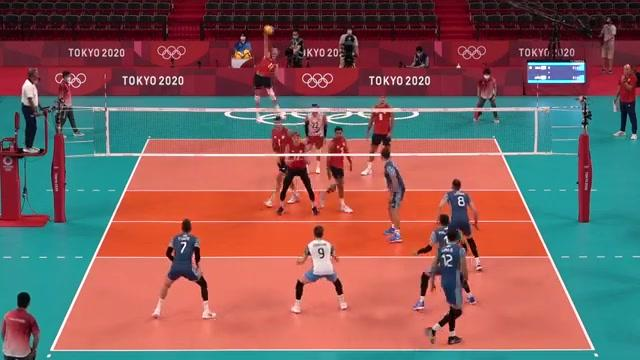ball: (264, 24, 274, 35)
